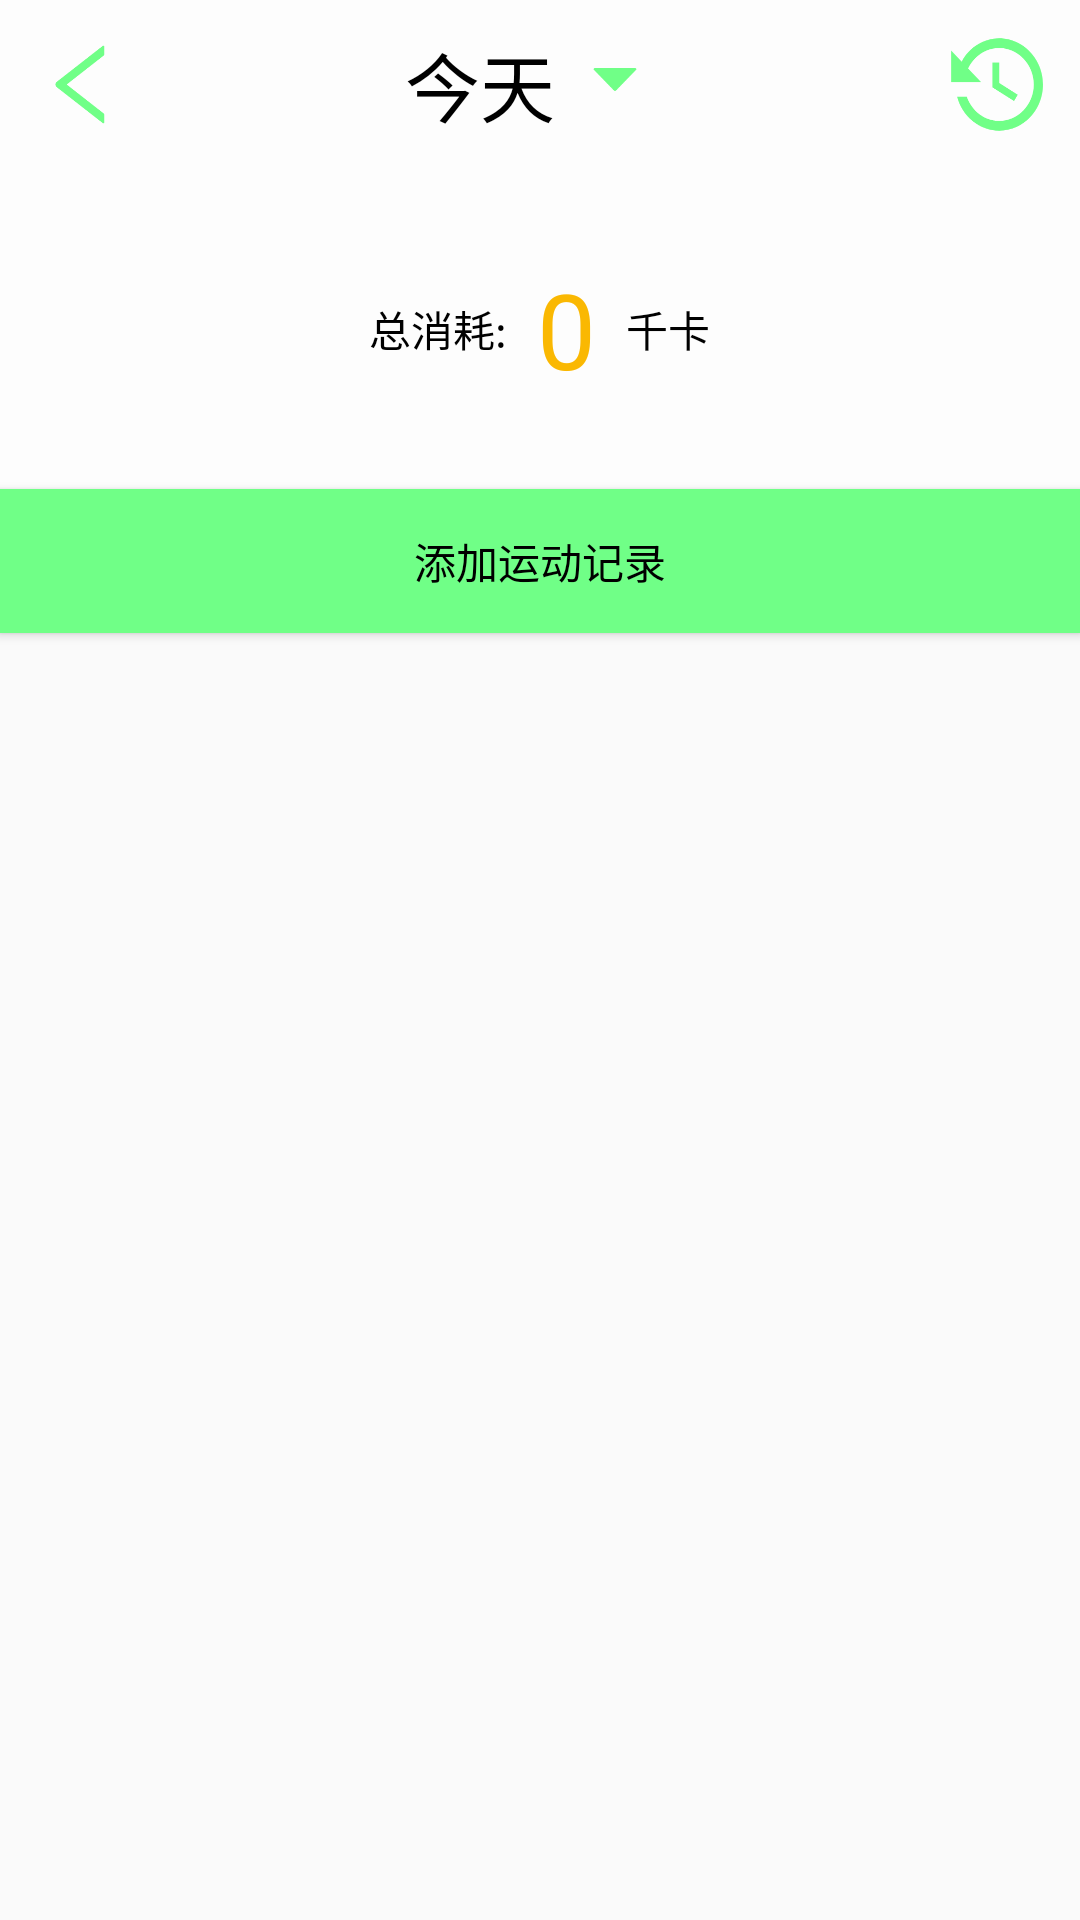

Point at icon controls on the screen. Image size 1080 × 1920, points as [x,y].
back left: [80,84]
history: [997,84]
triangle: [615,79]
